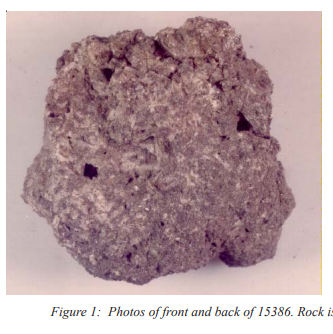Basalt: (17, 27, 301, 280)
